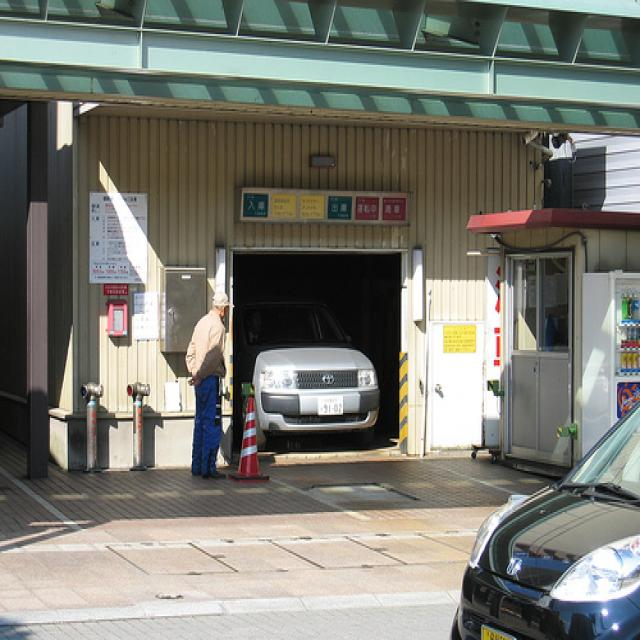Car: (434, 375, 640, 640), (245, 302, 382, 440)
